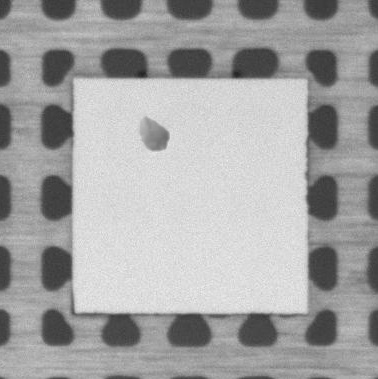DIE_INK: (136, 115, 168, 154)
